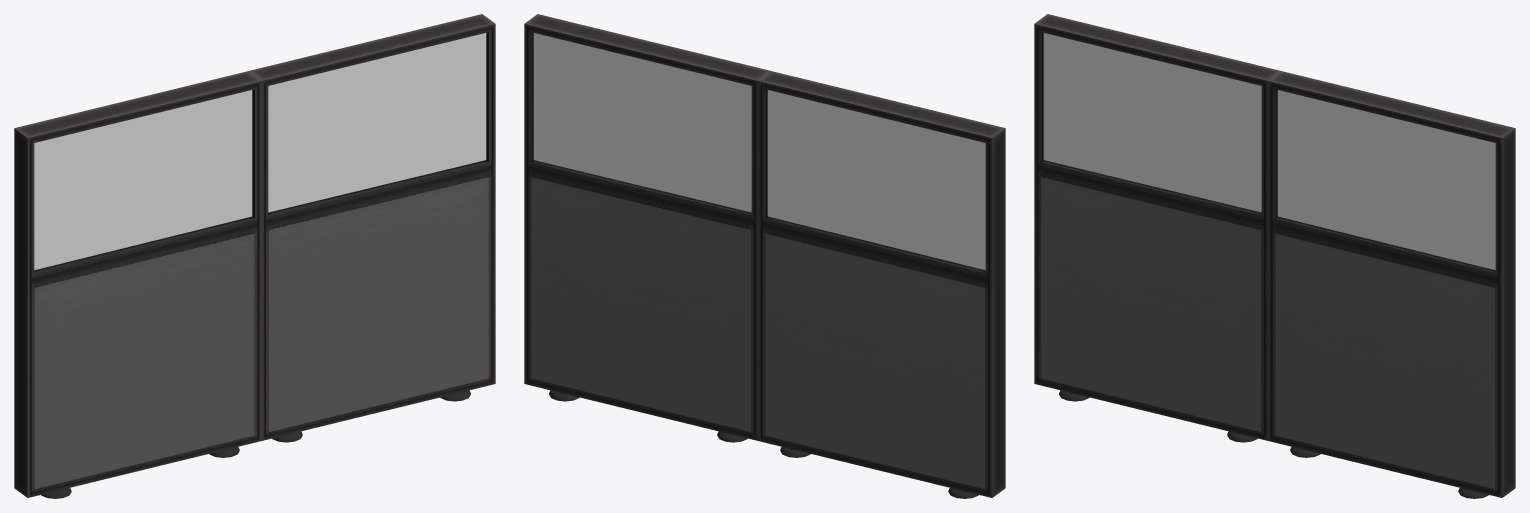
Rendered from OfficePartition01__3.fbx.
3 views of the same model, side by side, from view 1: azimuth 30°, elevation 25°; view 2: azimuth 150°, elevation 25°; view 3: azimuth 330°, elevation 25° (orthographic).
Visible parts, largest first — view 1: OfficePartition01C; view 2: OfficePartition01C; view 3: OfficePartition01C.
Part boxes in pixels (x1=…): OfficePartition01C: x1=14, y1=14, x2=495, y2=498; OfficePartition01C: x1=524, y1=14, x2=1005, y2=498; OfficePartition01C: x1=1034, y1=14, x2=1515, y2=498.
Bounding box in the file's own units: 2 × 1.5 × 0.12.
1 material, 1 textured.
